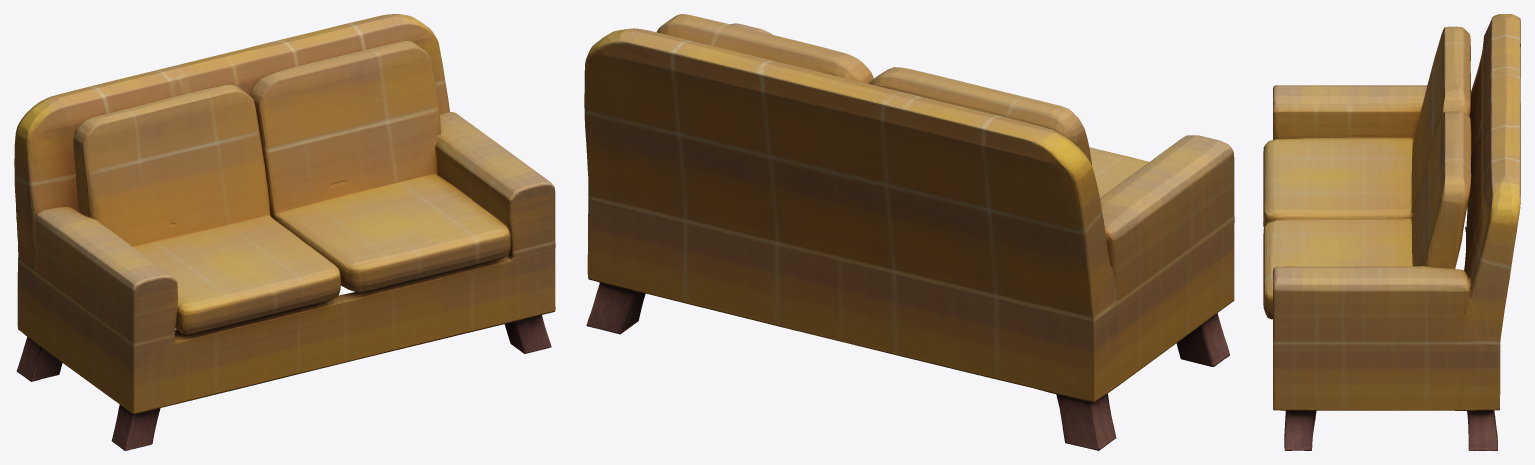
Rendered from sofa_1.glb.
3 views of the same model, side by side, from view 1: azimuth 30°, elevation 25°; view 2: azimuth 150°, elevation 25°; view 3: azimuth 270°, elevation 25° (orthographic). The views are drawn at different scales.
Visible parts, largest first — view 1: world; view 2: world; view 3: world.
Part boxes in pixels (left/top/right/bottom): world: left=14, top=14, right=555, bottom=450; world: left=584, top=14, right=1234, bottom=450; world: left=1263, top=14, right=1520, bottom=450.
Bounding box in the file's own units: 0.7892 × 0.4586 × 0.423.
1 material, 1 textured.
